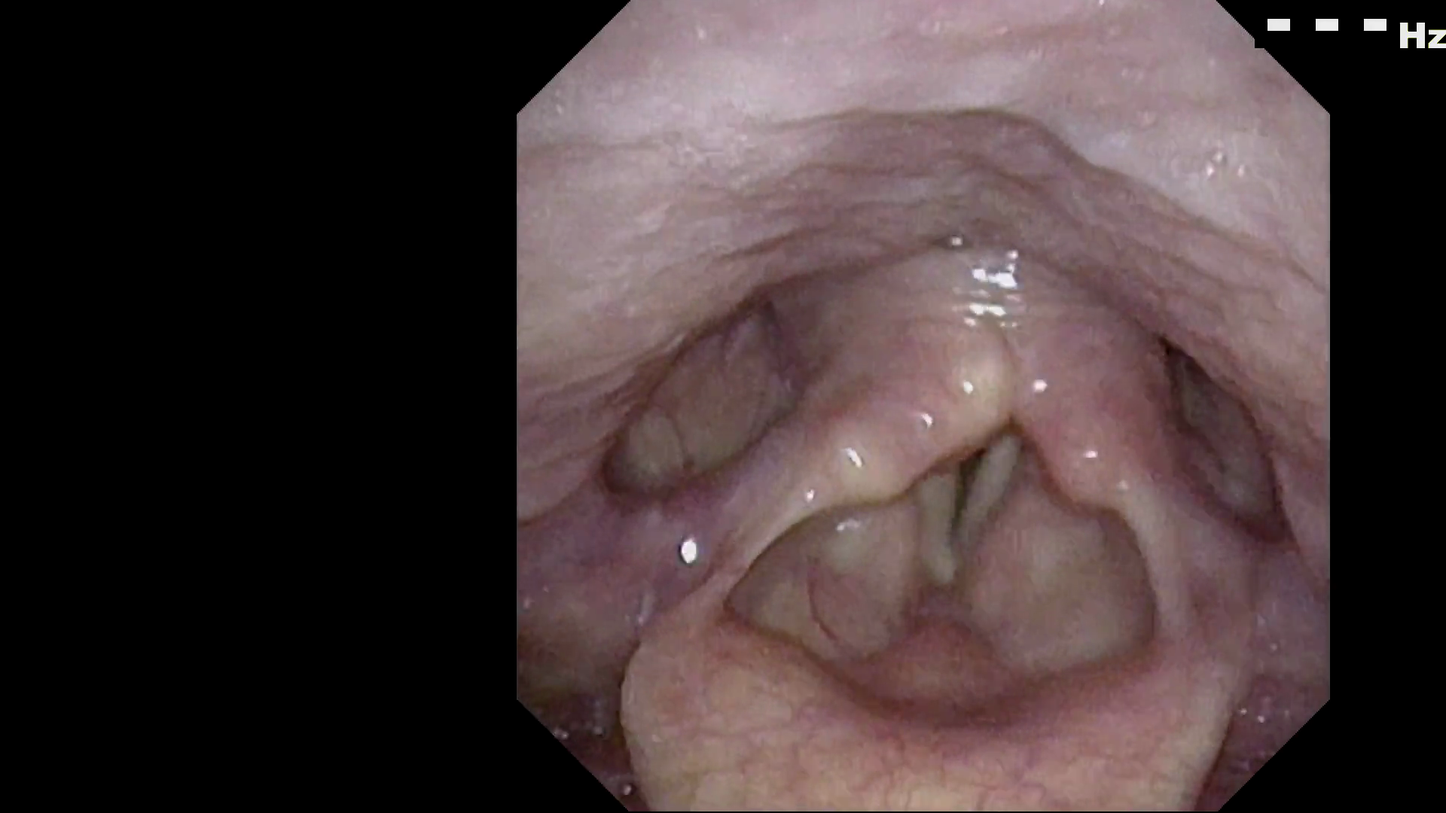epiglottis: (602, 525, 1244, 765)
trachea: (880, 385, 1059, 610)
